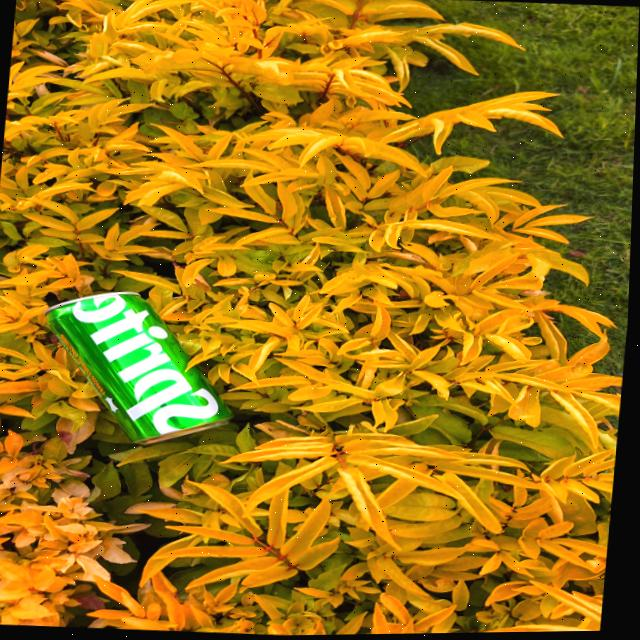Sprite: (36, 284, 240, 444)
